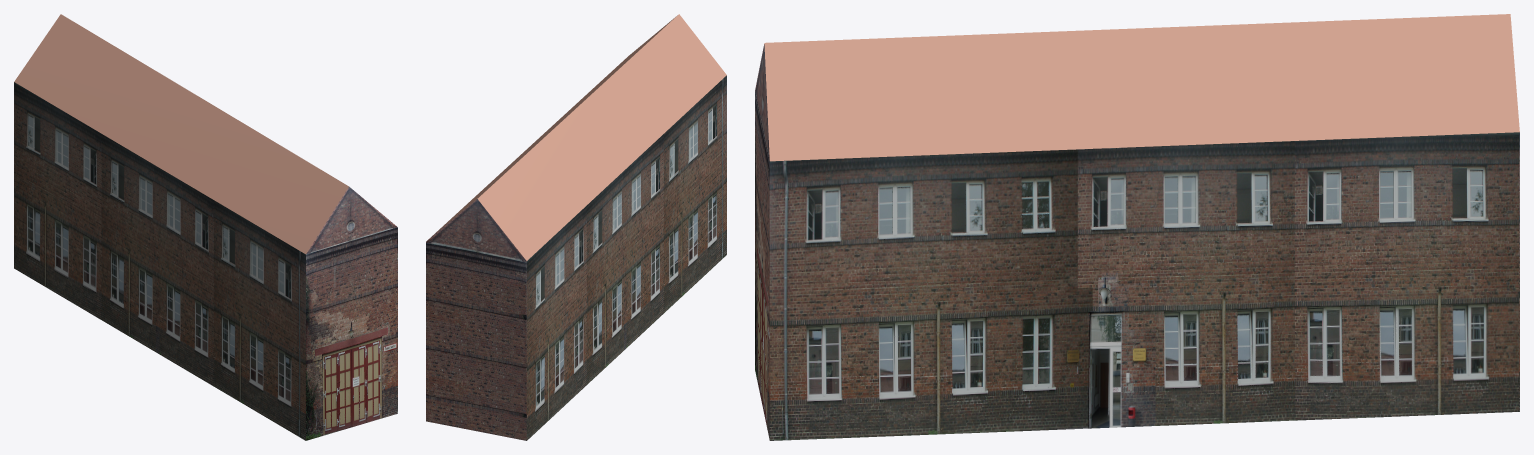
File: Technische_Leitzentrale.gltf
3 renders of one model, left to right at view 1: azimuth 30°, elevation 25°; view 2: azimuth 150°, elevation 25°; view 3: azimuth 270°, elevation 25°, orthographic. The views are drawn at different scales.
Parts seen in each view (by area): view 1: Dach.1; view 2: Dach.1; view 3: Dach.1.
Boxes of the visible parts, <box> form: Dach.1: <box>14,14,397,440</box>; Dach.1: <box>426,14,726,440</box>; Dach.1: <box>755,14,1519,440</box>.
Bounding box in the file's own units: 9.1 × 15.06 × 28.91.
6 materials, 5 textured.
